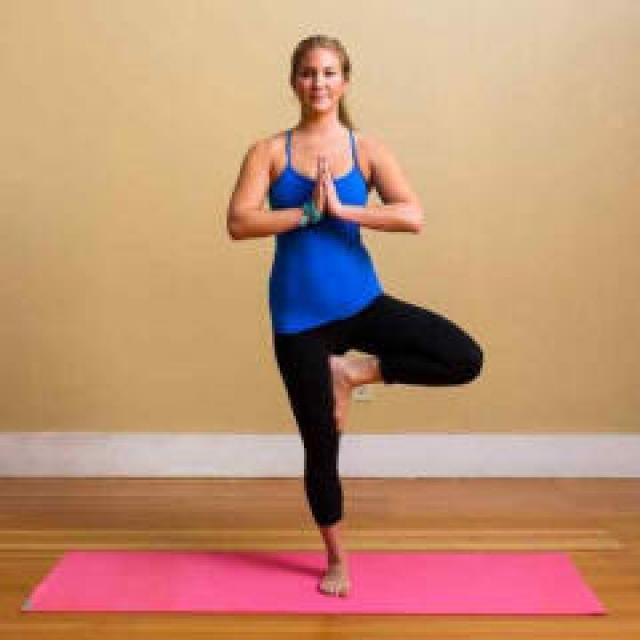yoga-pose tree: (224, 36, 486, 597)
